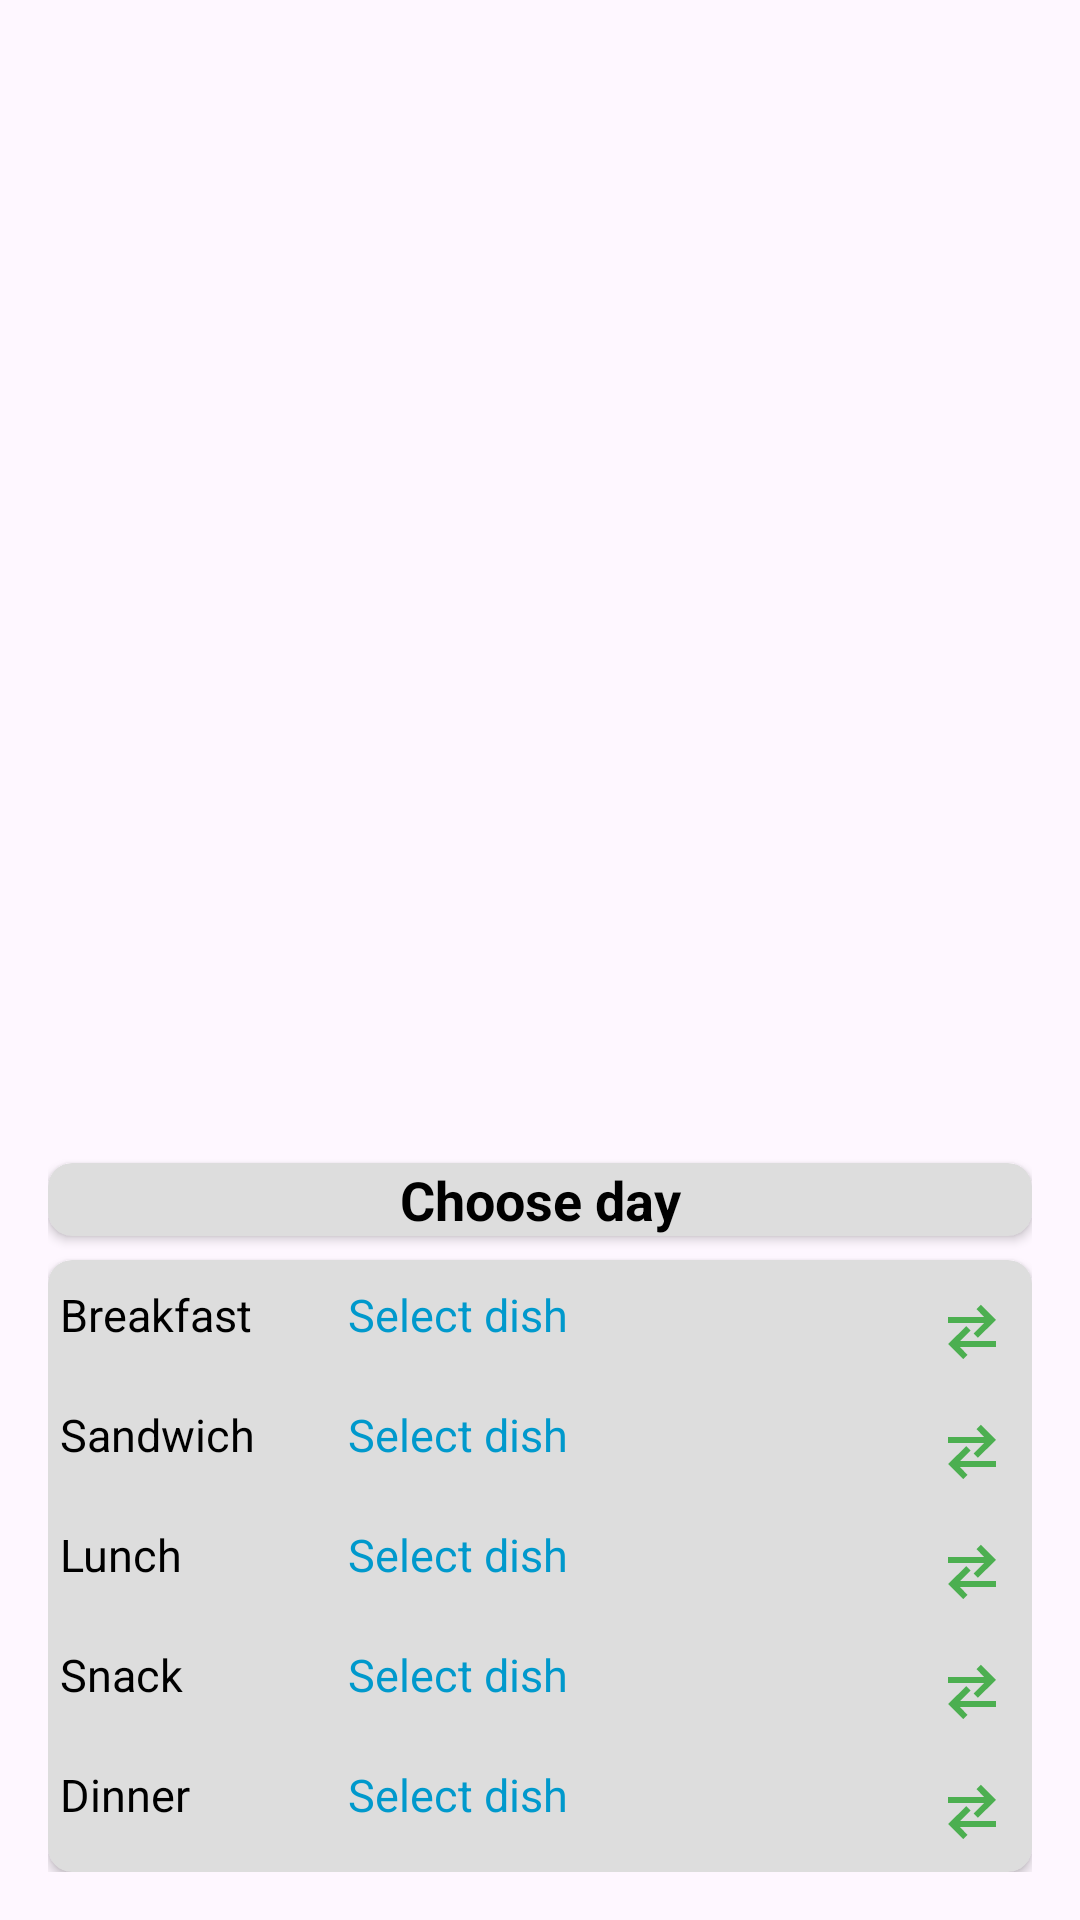

Icon bounding boxes for this 1080px x 1920px phone screenshot, format (x1, y1, x2, y2):
replace: (948, 1305, 996, 1359), (948, 1425, 996, 1479), (948, 1545, 996, 1599), (948, 1665, 996, 1719), (948, 1785, 996, 1839)
